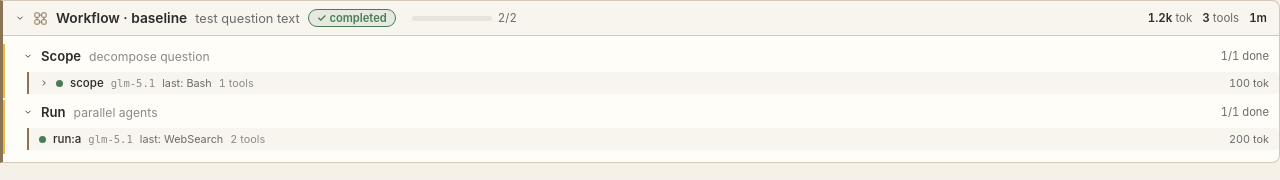
WorkflowTree › collapses the whole tree when the workflow header is clicked
Expected: the text "Scope" is shown, [41,48,81,64]
Click the text "Workflow · baseline".
click(122, 18)  # box [56,10,187,26]
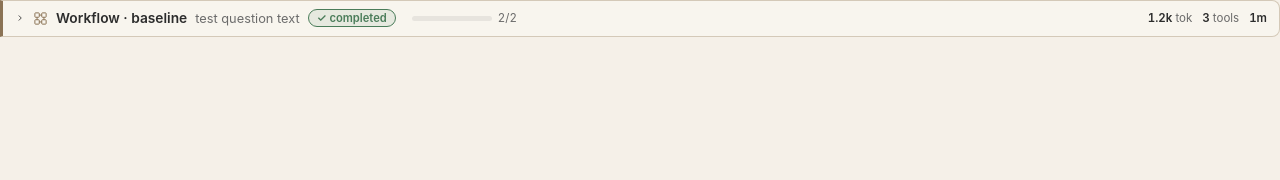
Now the button "Scope" is gone
